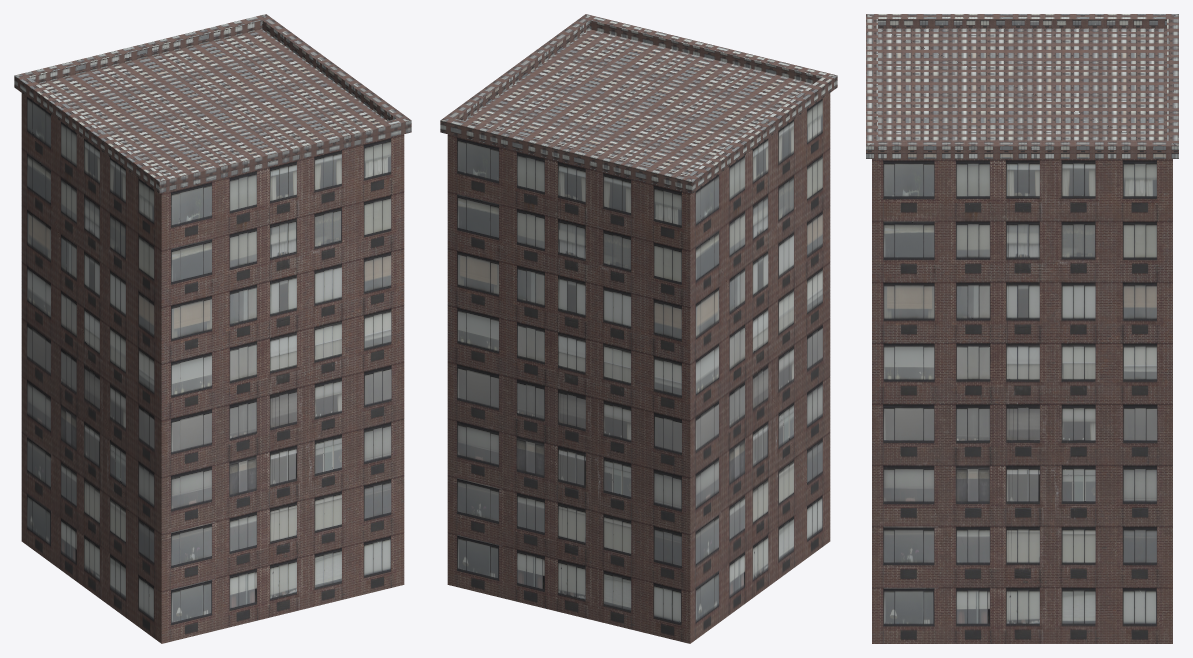
The model's file is binasdskkk.fbx.
3 views of the same model, side by side, from view 1: azimuth 30°, elevation 25°; view 2: azimuth 150°, elevation 25°; view 3: azimuth 270°, elevation 25° (orthographic). The views are drawn at different scales.
Parts seen in each view (by area): view 1: Cube; view 2: Cube; view 3: Cube.
Boxes of the visible parts, x1=… form: Cube: x1=14, y1=14, x2=411, y2=643; Cube: x1=440, y1=14, x2=837, y2=643; Cube: x1=866, y1=14, x2=1178, y2=643.
Bounding box in the file's own units: 208 × 367 × 208.
1 material, 1 textured.
